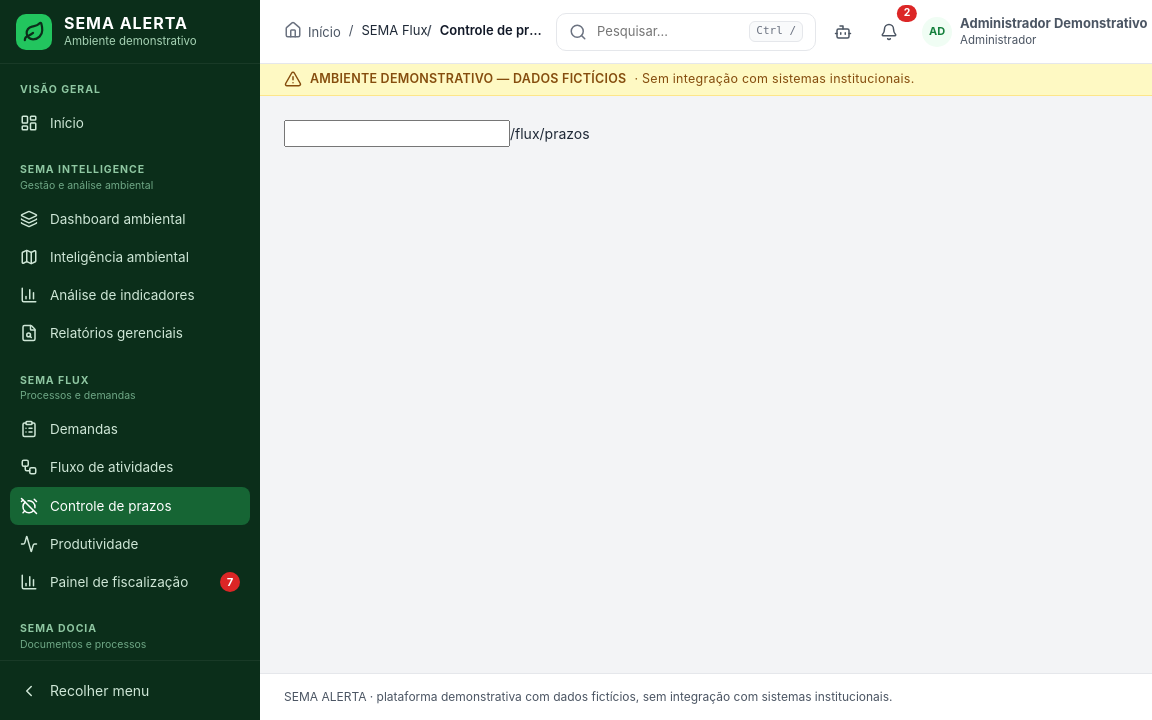
Test: Assistente Global › botão da topbar abre e o foco volta ao botão; Cmd+K também abre
This screenshot has width=1152, height=720.
Click the button named "Assistente global" at (843, 32), box x1=824 y1=12 x2=862 y2=50
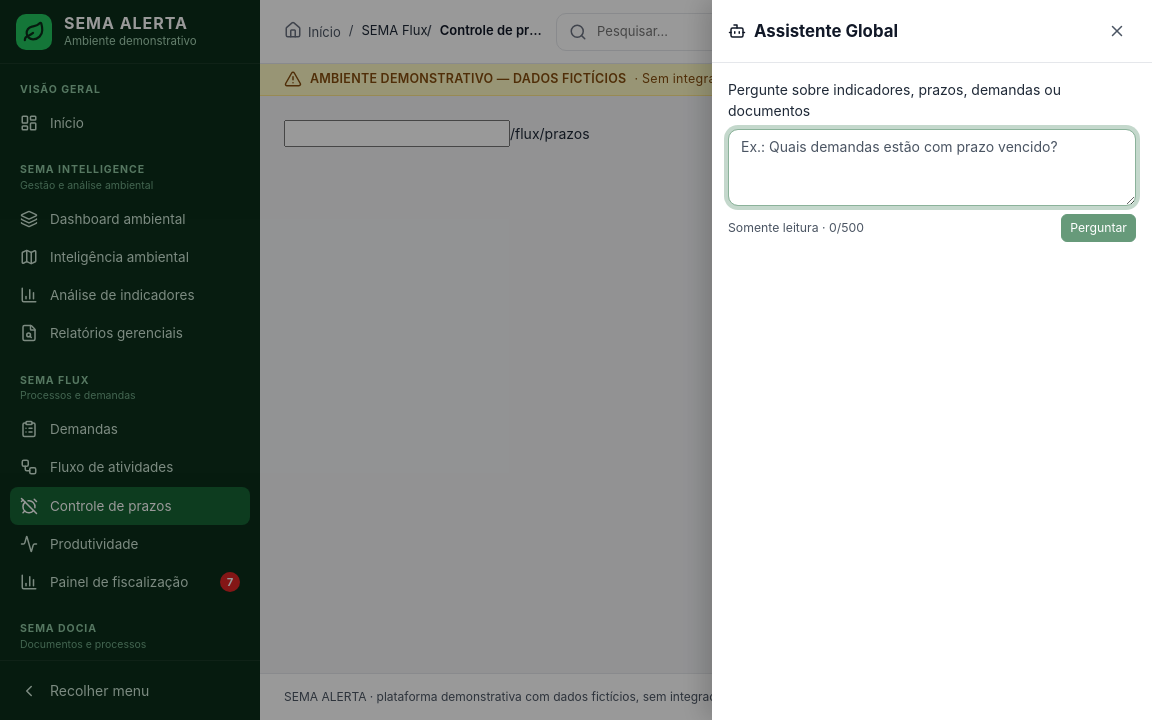
Check: the dialog "Assistente Global" is shown, box x1=712 y1=0 x2=1151 y2=719
Click the button named "Fechar assistente" at (1117, 31), box x1=1098 y1=12 x2=1136 y2=50
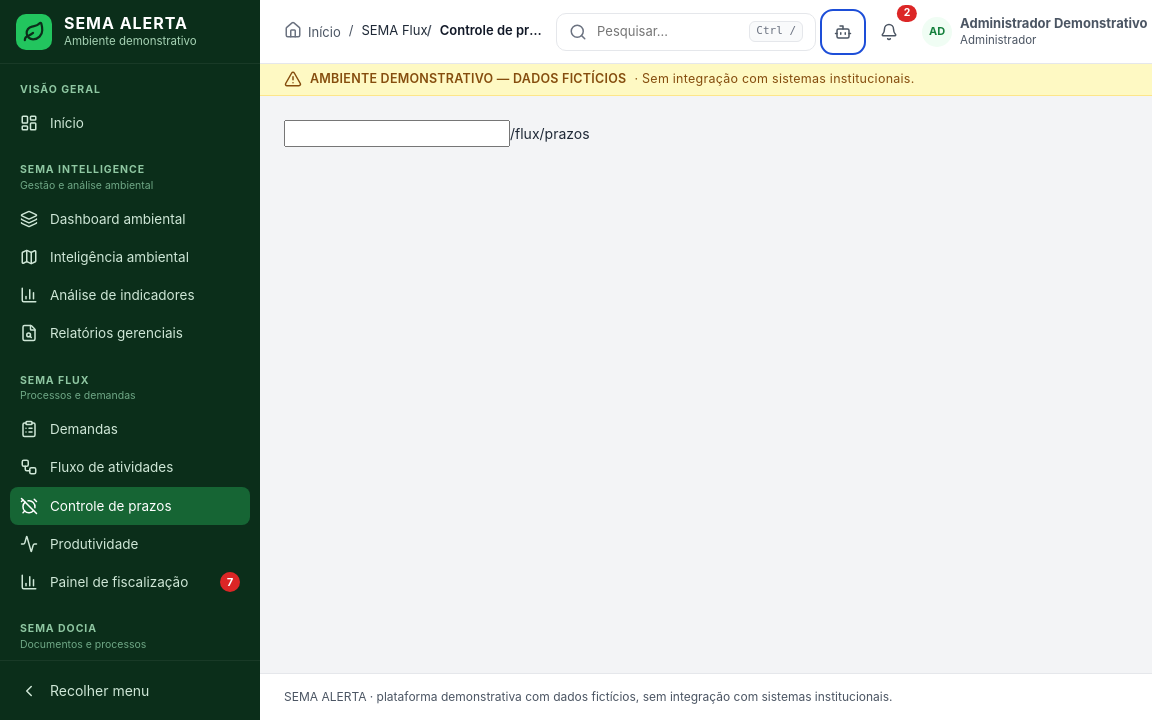
Type keys "{Meta>}k{/Meta}"
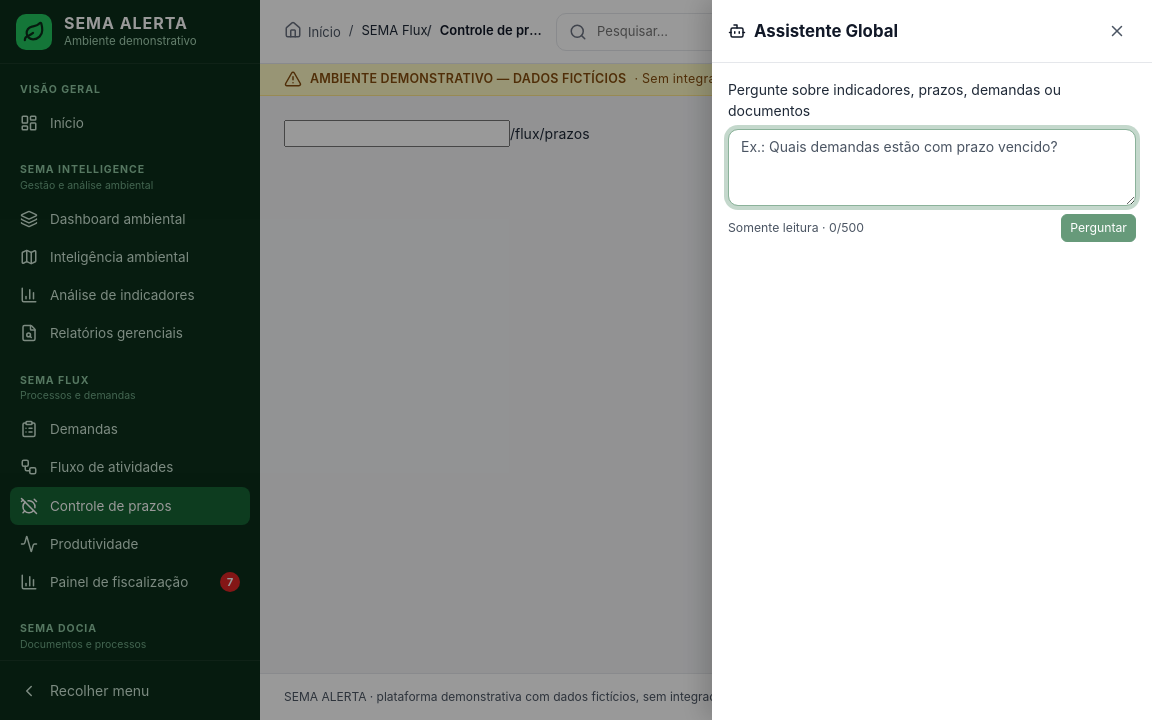
Check: the dialog "Assistente Global" is shown, box x1=712 y1=0 x2=1151 y2=719
